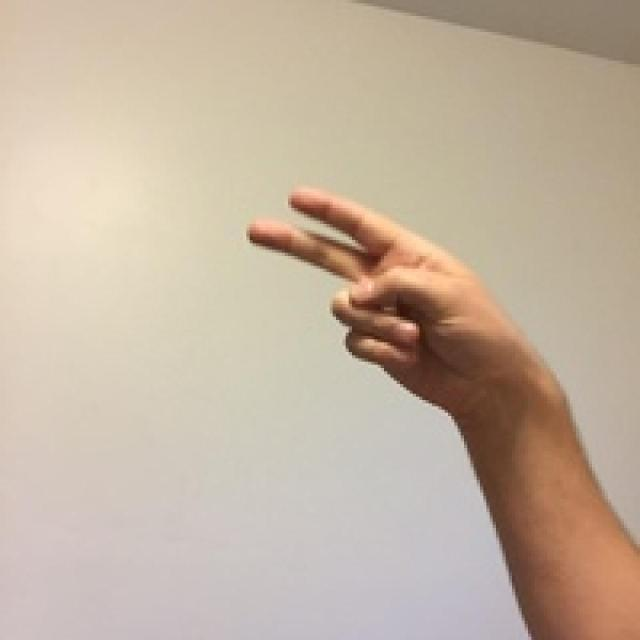H: (203, 150, 640, 445)
